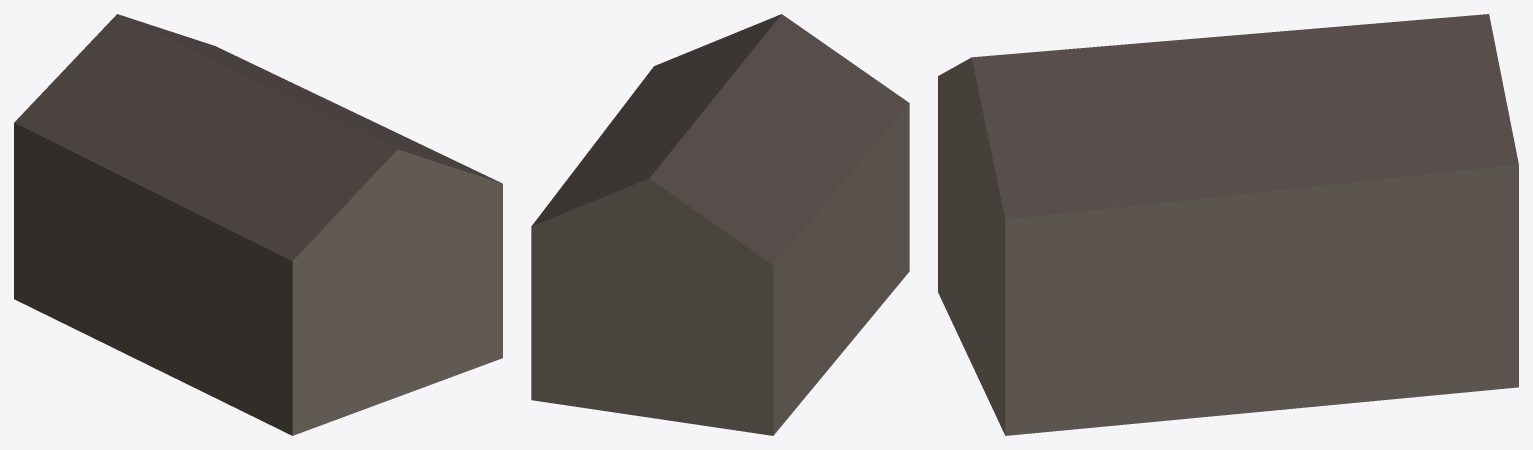
The picture shows the model from 3 angles, left to right: view 1: azimuth 30°, elevation 25°; view 2: azimuth 150°, elevation 25°; view 3: azimuth 270°, elevation 25°; orthographic projection. The views are drawn at different scales.
Visible parts, largest first — view 1: HP-w1516161911; view 2: HP-w1516161911; view 3: HP-w1516161911.
Boxes of the visible parts, x1=… form: HP-w1516161911: x1=14, y1=14, x2=502, y2=435; HP-w1516161911: x1=531, y1=14, x2=909, y2=435; HP-w1516161911: x1=938, y1=14, x2=1518, y2=435.
Bounding box in the file's own units: 16.52 × 12.77 × 21.91.
